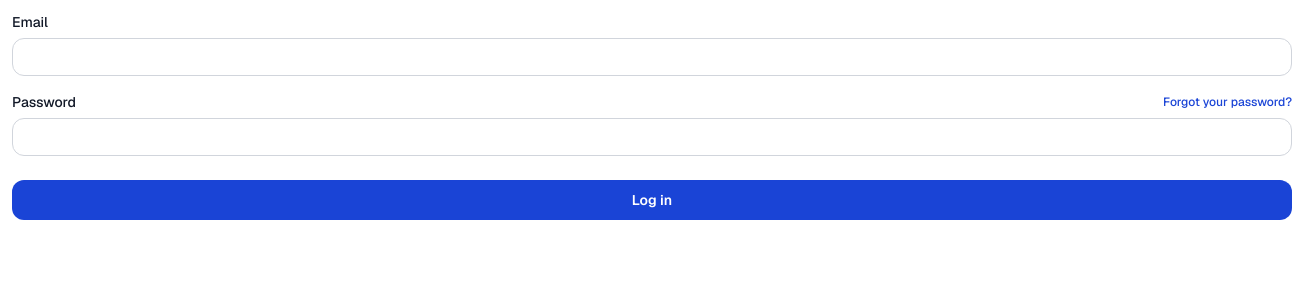
LoginForm › AC38: shows one generic message on a 401, never the raw API text
Type "ada@example.com" into the field labelled "Email".
click(652, 57); type("ada@example.com")  # box [12,38,1292,76]
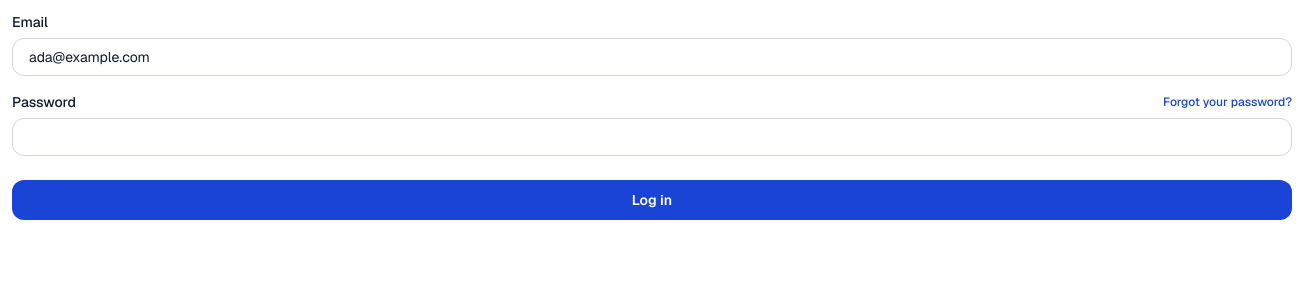
Type "wrongpassword1" into the password field labelled "Password".
click(652, 137); type("wrongpassword1")  # box [12,118,1292,156]
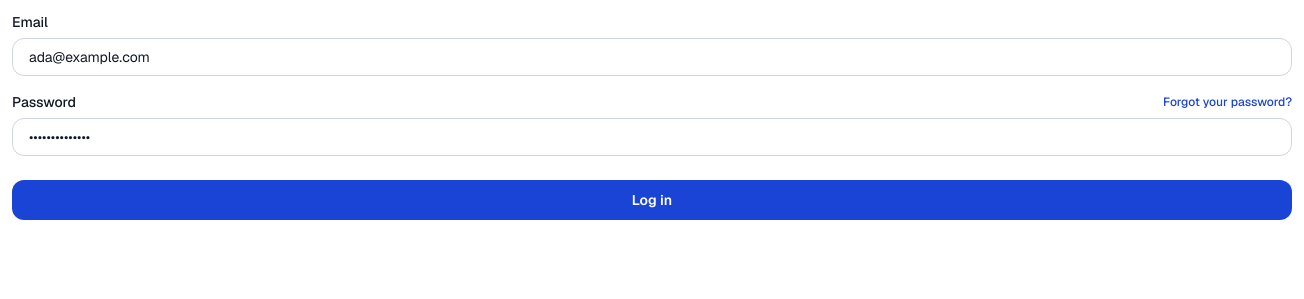
Click the button "Log in".
click(652, 200)  # box [12,180,1292,220]
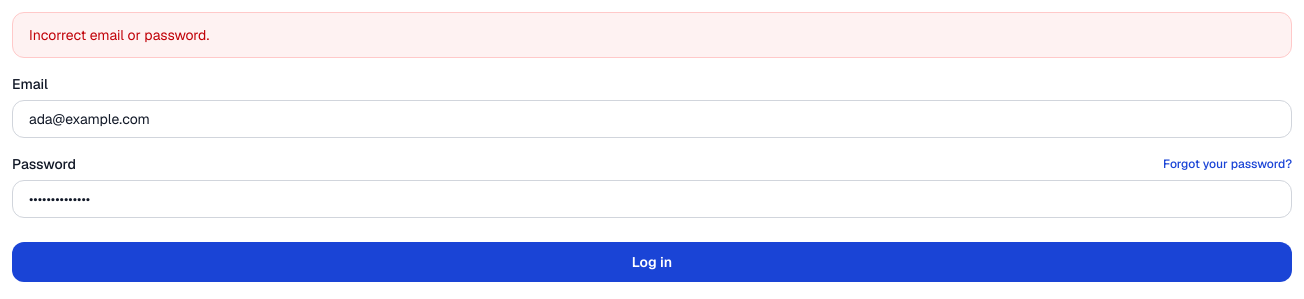
Expected: the message does not show "password mismatch", [12,12,1292,58]
Result: the message reads "Incorrect email or password." at [29,26,209,44]
